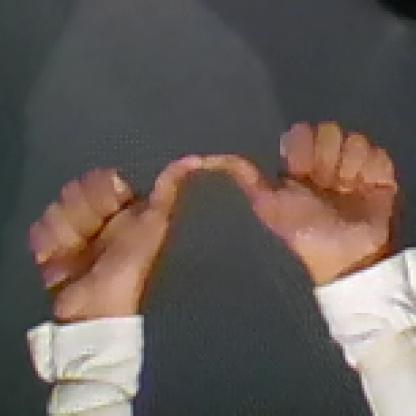A: (22, 115, 399, 292)
